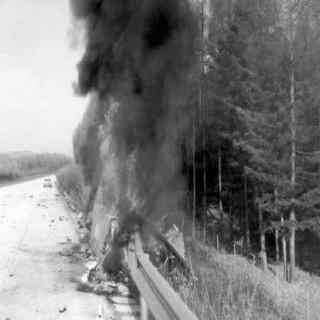Fire: (86, 97, 144, 280), (153, 222, 189, 260)
Smoke: (75, 6, 188, 100), (143, 113, 186, 215)
